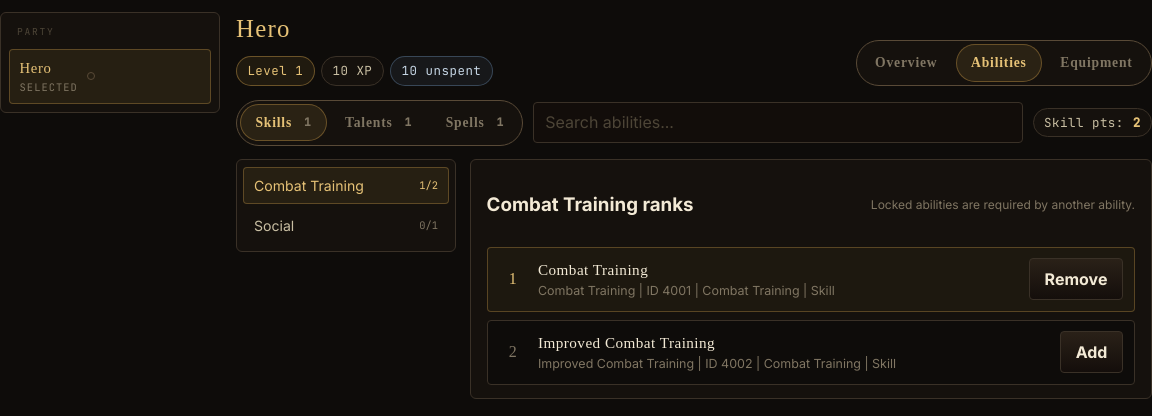
Test: CharacterPanel abilities tab › filters by tree name and by rank ability name
The image size is (1152, 416).
Click the button "Talents 1".
click(379, 123)  # box [330,104,427,141]
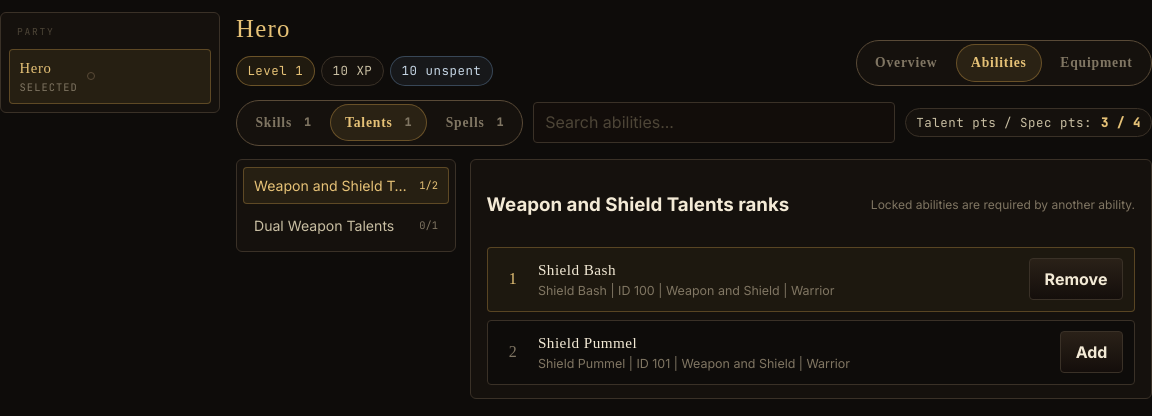
Expected: the option "Weapon and Shield Talents 1/2" is shown, [243,166,449,204]
Expected: the option "Dual Weapon Talents 0/1" is shown, [243,207,449,244]
Type "dual weapon" into the search field labelled "Search abilities".
click(714, 123); type("dual weapon")  # box [533,102,895,143]
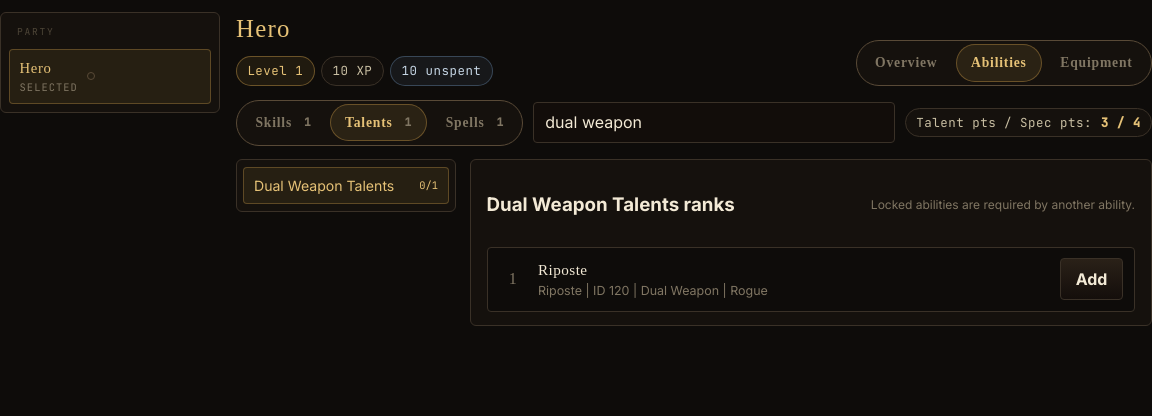
Expected: the option "Dual Weapon Talents 0/1" is shown, [243,166,449,204]
Expected: the option "Weapon and Shield Talents" is gone
Expected: the text "Riposte" is shown, [538,261,588,278]
Replace the text in the search field named "Search abilities" with "shield pummel" at {"x": 714, "y": 123}, box [533,102,895,143]
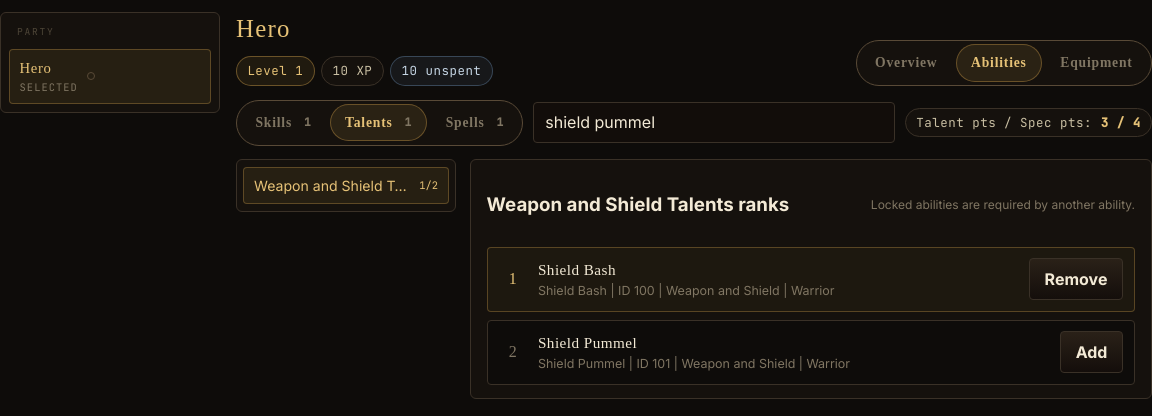
Expected: the option "Weapon and Shield Talents 1/2" is shown, [243,166,449,204]
Expected: the option "Dual Weapon Talents" is gone
Expected: the text "Shield Pummel" is shown, [538,334,637,351]
